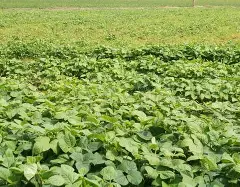crops: (0, 43, 237, 185), (0, 4, 237, 40), (41, 78, 120, 119), (120, 42, 239, 68), (161, 68, 234, 102), (137, 142, 189, 183), (185, 147, 237, 184), (51, 51, 116, 80), (0, 0, 201, 8), (87, 111, 143, 138), (5, 156, 45, 185), (201, 126, 239, 152), (2, 40, 42, 59), (135, 112, 167, 134), (63, 23, 89, 39), (90, 44, 116, 58), (196, 0, 238, 7), (168, 0, 194, 7), (105, 31, 116, 39)
